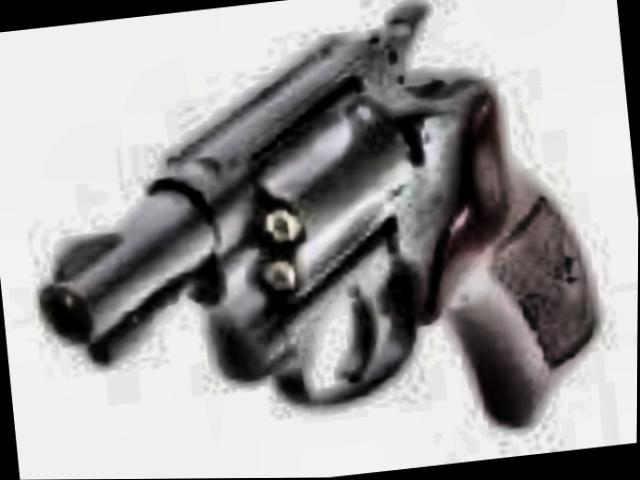pistol: (2, 0, 611, 465)
